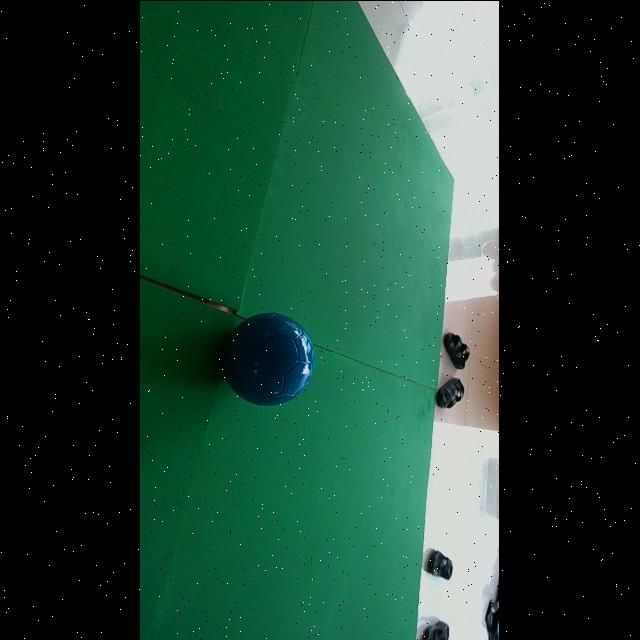B: (223, 311, 315, 405)
